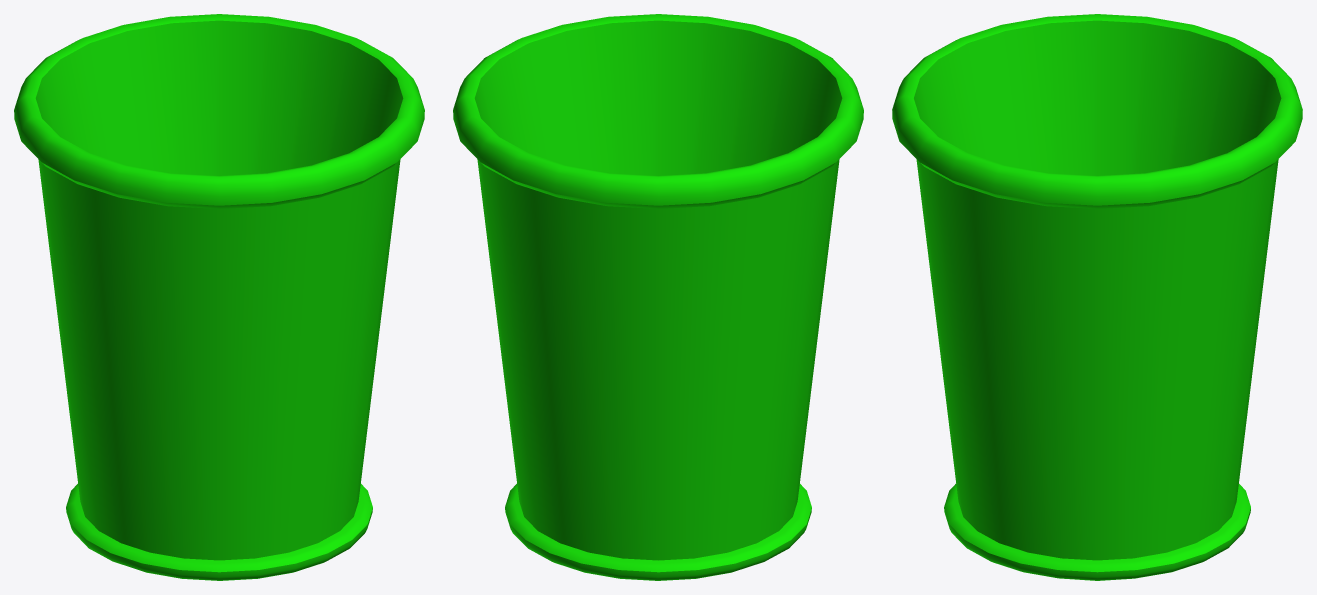
Rendered from VasoPlastico.fbx.
3 views of the same model, side by side, from view 1: azimuth 30°, elevation 25°; view 2: azimuth 150°, elevation 25°; view 3: azimuth 270°, elevation 25° (orthographic).
Visible parts, largest first — view 1: Cylinder.001; view 2: Cylinder.001; view 3: Cylinder.001.
Part boxes in pixels (left/top/right/bottom): Cylinder.001: left=14, top=14, right=424, bottom=580; Cylinder.001: left=453, top=14, right=863, bottom=580; Cylinder.001: left=892, top=14, right=1302, bottom=580.
Bounding box in the file's own units: 13.96 × 15.86 × 13.95.
